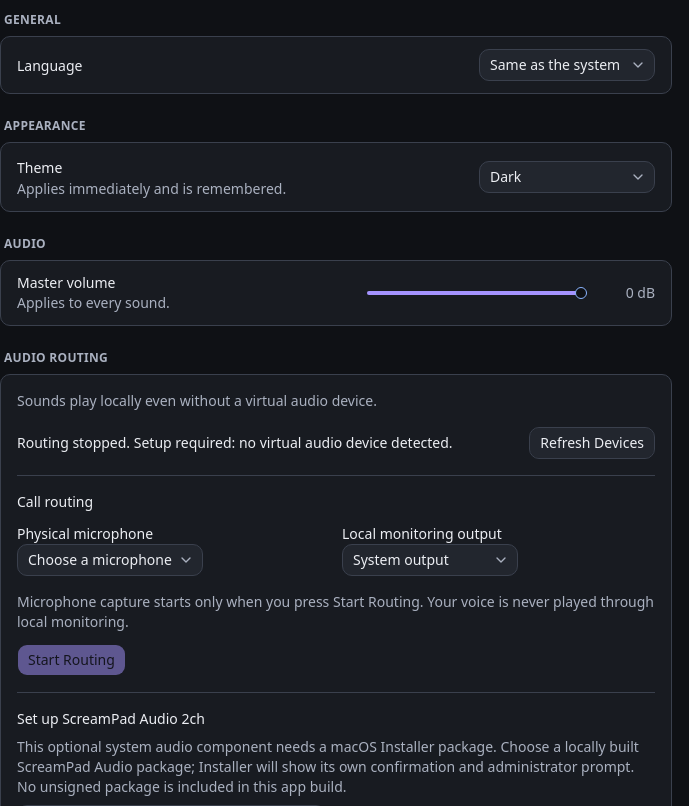
settings page › puts the previous theme back and says so when the save fails
The width and height of the screenshot is (689, 806).
What coordinates should you click on to do the following:
click the dropdown named "Theme"
I would click on:
 (567, 177)
Its box is [479,161,655,193].
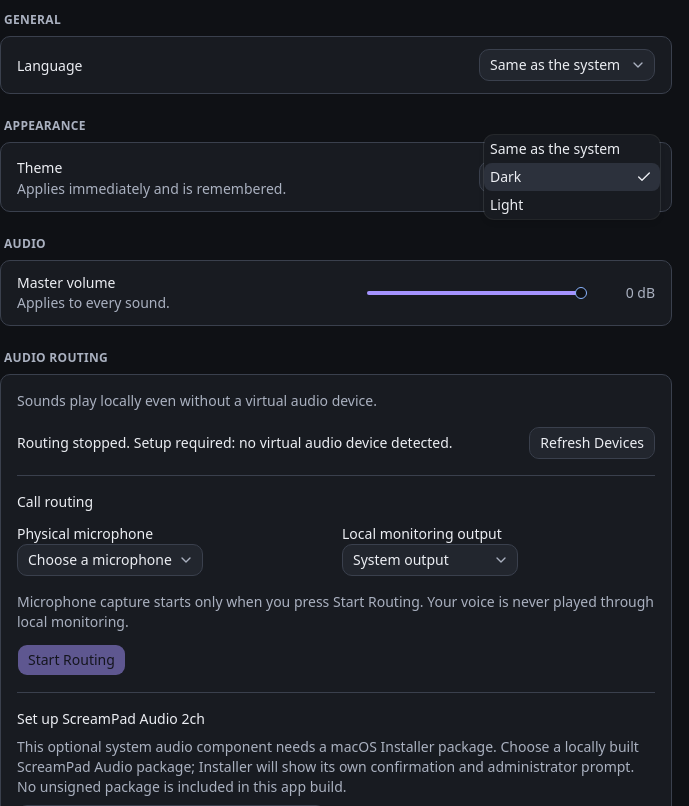
What coordinates should you click on to do the following:
click the option "Light"
I would click on:
 (507, 204)
Its box is [490,195,523,214].
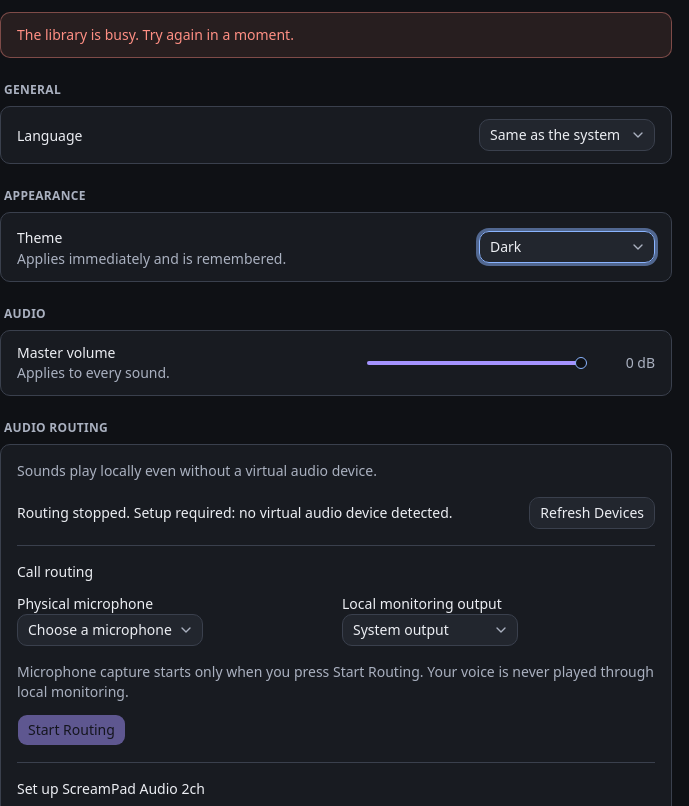
expect the dropdown named "Theme" shows "Dark": met, box [479,231,655,263]
expect the message "The library is busy. Try again in a moment." is shown: met, box [0,12,672,58]
